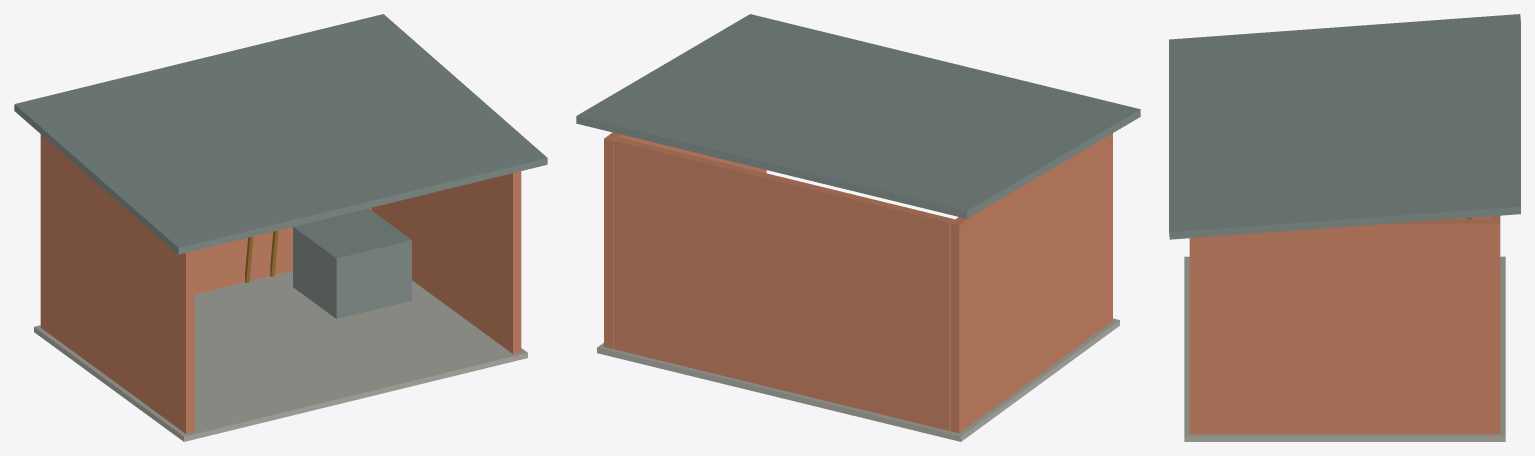
Rendered from SM_CasetaAperos_v2_Ladrillo_LOD0.fbx.
3 renders of one model, left to right at view 1: azimuth 30°, elevation 25°; view 2: azimuth 150°, elevation 25°; view 3: azimuth 270°, elevation 25°, orthographic. The views are drawn at different scales.
Visible parts, largest first — view 1: SM_huerta_nules_v22_LOD0; view 2: SM_huerta_nules_v22_LOD0; view 3: SM_huerta_nules_v22_LOD0.
Boxes of the visible parts, x1,y1,x2,y2 form: SM_huerta_nules_v22_LOD0: [14, 14, 547, 441]; SM_huerta_nules_v22_LOD0: [576, 14, 1140, 441]; SM_huerta_nules_v22_LOD0: [1169, 14, 1520, 441].
Bounding box in the file's own units: 4.4 × 2.58 × 3.4.
